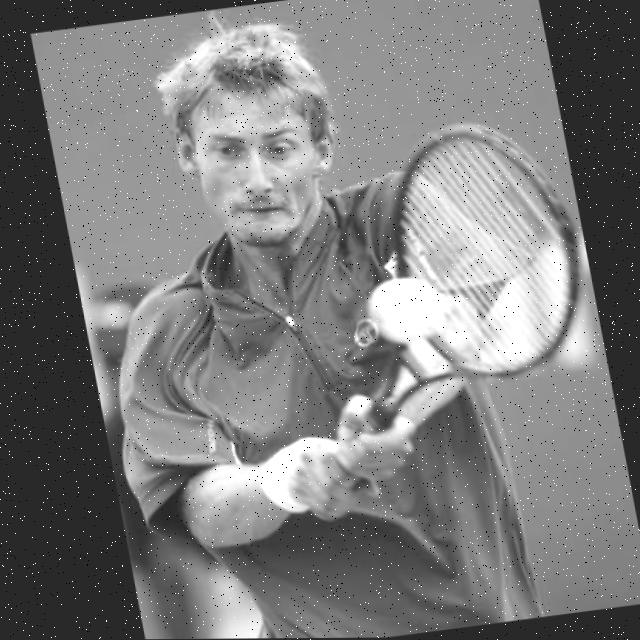face: (160, 55, 360, 262)
